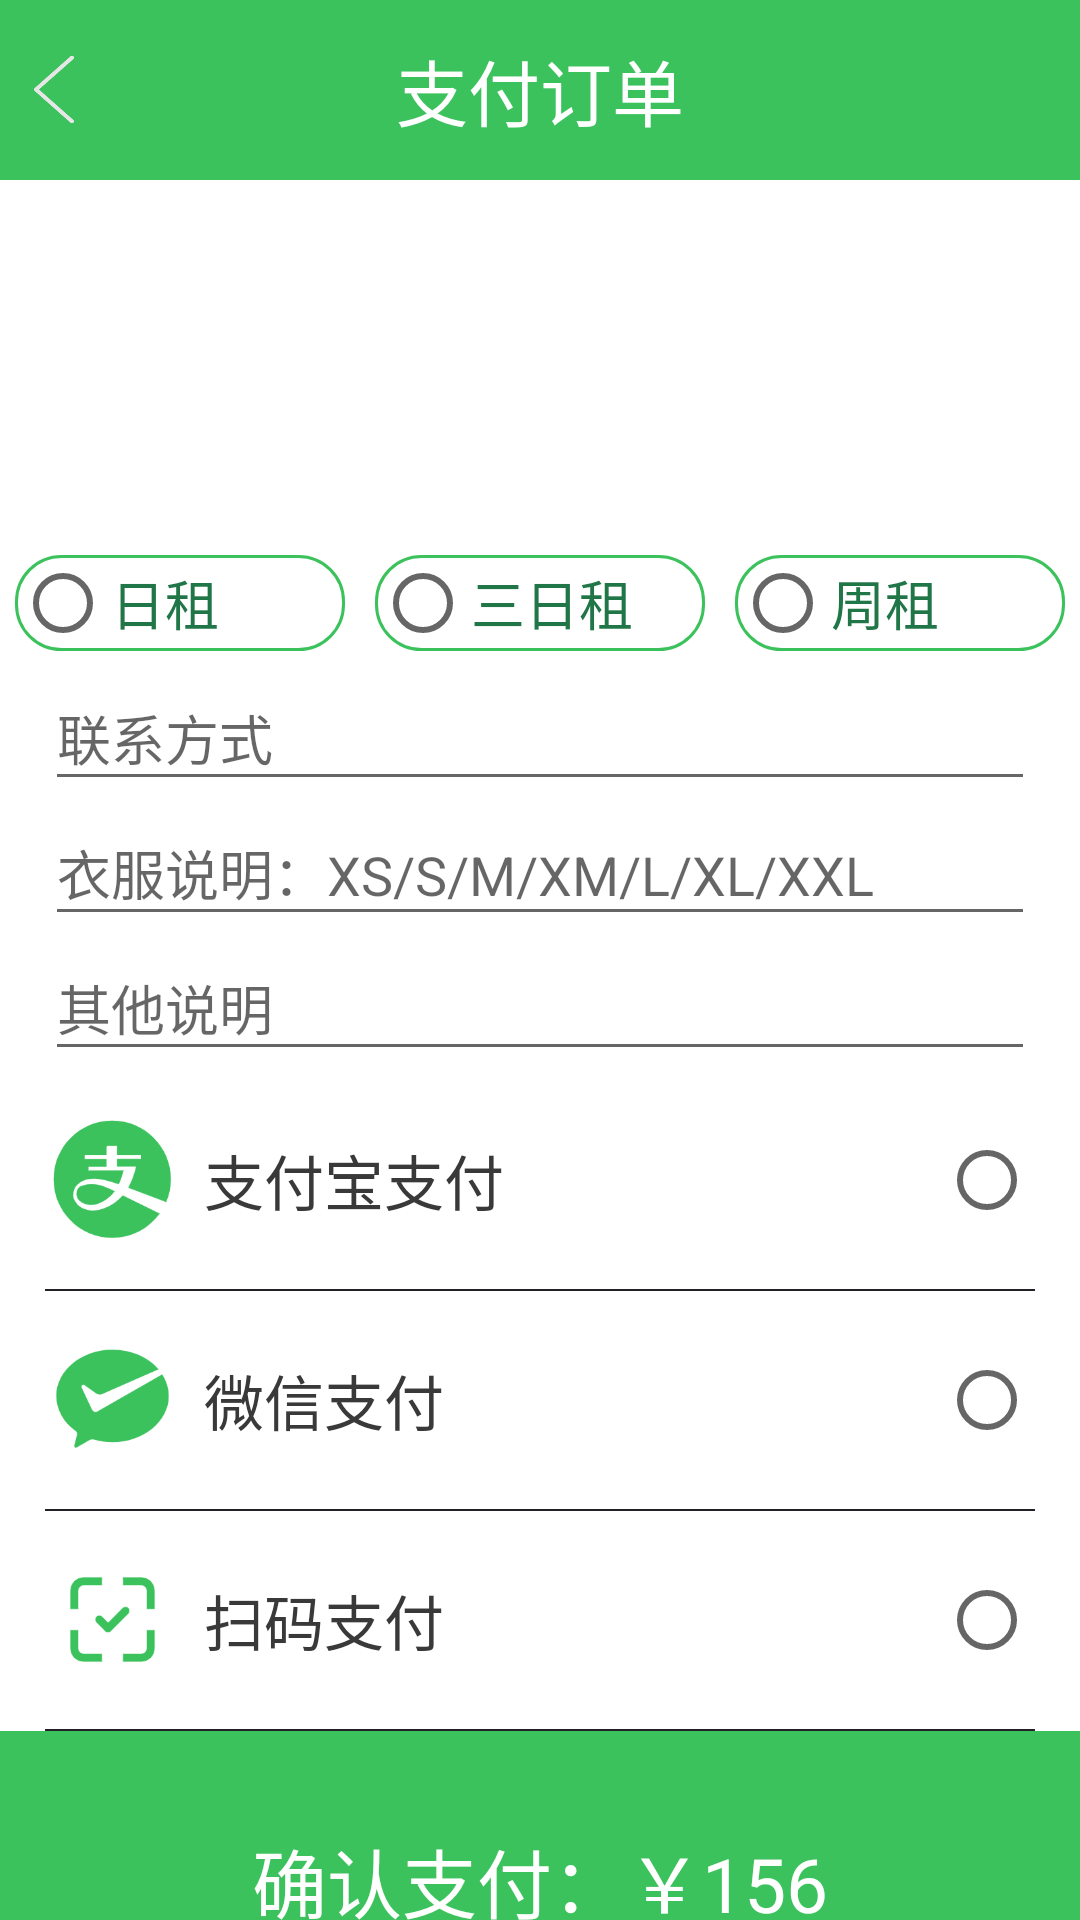

Screen size 1080px x 1920px. Icon name, then its center in pixels as (x=x, y=y):
order back: (x=54, y=89)
sao code: (x=112, y=1619)
